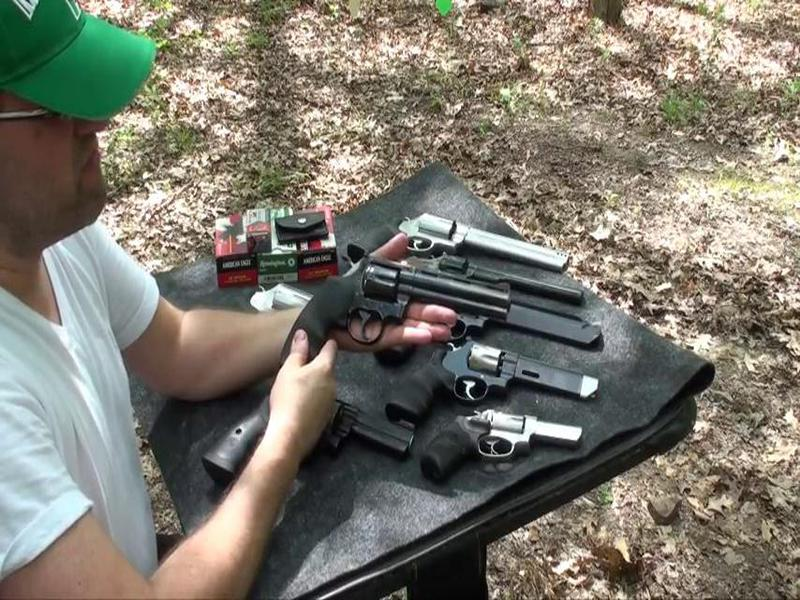Revolver: (286, 237, 502, 390)
